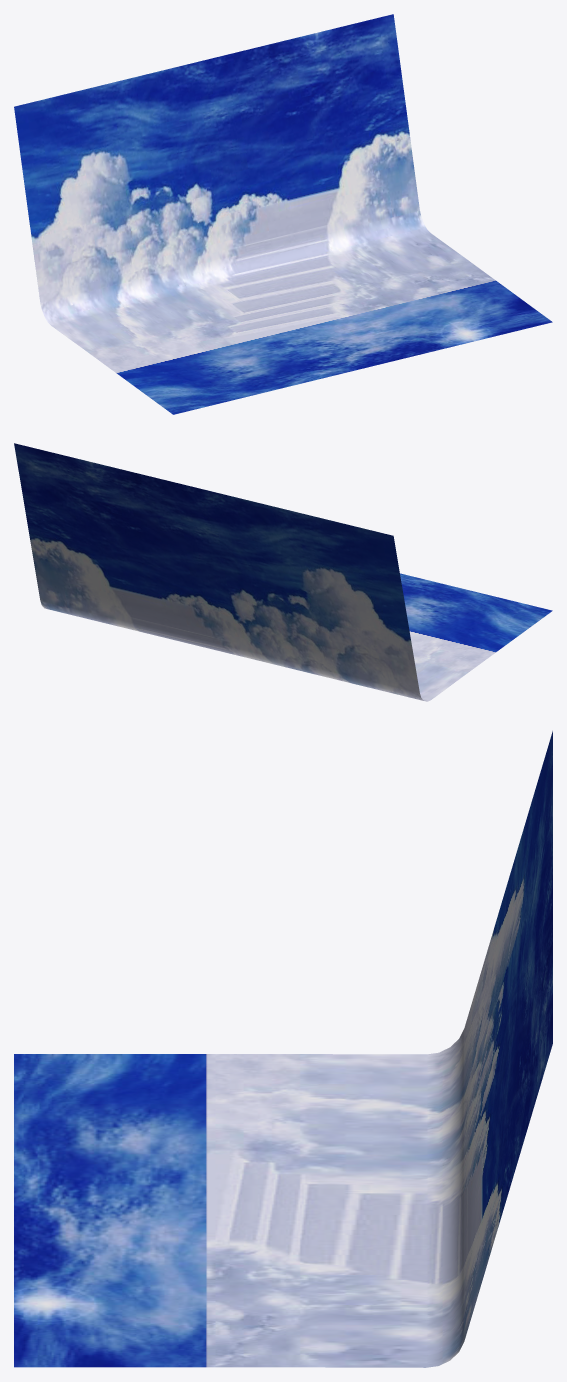
File: desktop.fbx
3 views of the same model, one above another, from view 1: azimuth 30°, elevation 25°; view 2: azimuth 150°, elevation 25°; view 3: azimuth 270°, elevation 25° (orthographic). The views are drawn at different scales.
Parts seen in each view (by area): view 1: 平面; view 2: 平面; view 3: 平面.
Boxes of the visible parts, bbox=[...] form: 平面: bbox=[14, 14, 552, 414]; 平面: bbox=[14, 443, 552, 701]; 平面: bbox=[14, 731, 552, 1367].
Bounding box in the file's own units: 400 × 193 × 291.
1 material, 1 textured.
